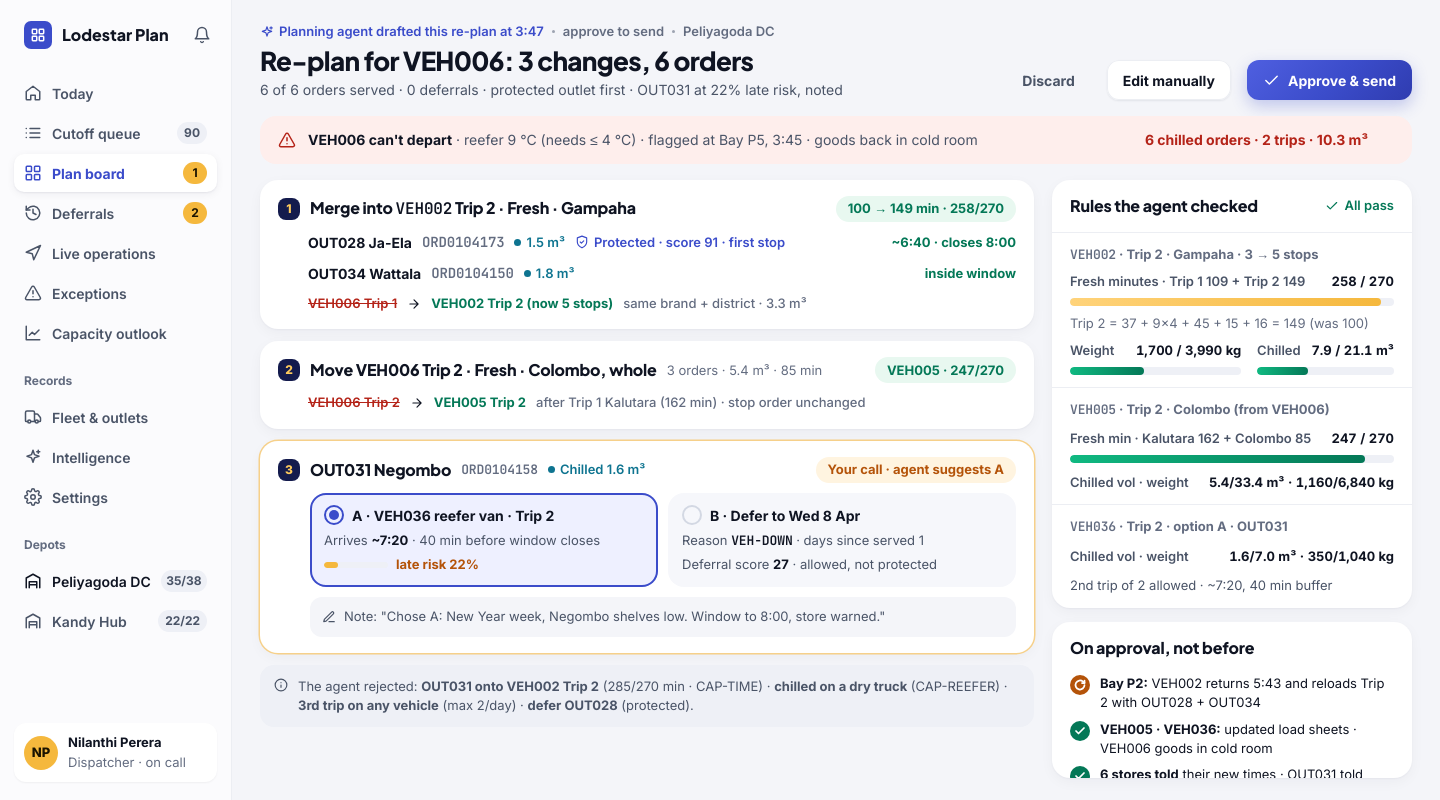
Flow 3 · Reefer down (desk part) › approve & send hands the re-plan to the loader
This screenshot has width=1440, height=800.
expect the text "Re-plan for VEH006" is shown: met, box [260,44,753,77]
expect the text "reefer 9 °C" is shown: met, box [452,131,978,148]
Click the button "Approve & send" at coordinates (1330, 80), box [1247,60,1412,100]
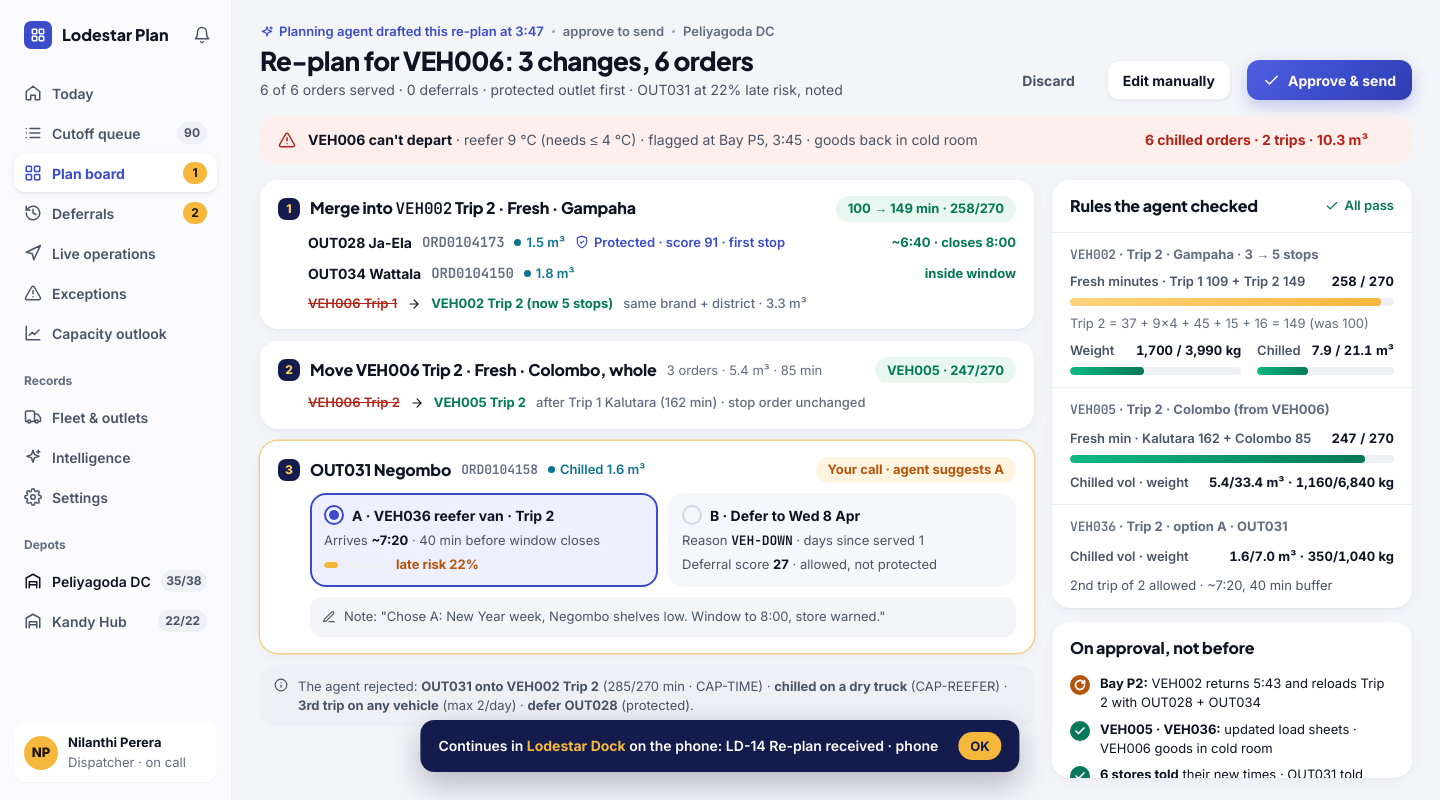
expect the message with class "web-toast" shows "Continues in": met, box [420,720,1019,772]
expect the message with class "web-toast" shows "Lodestar Dock": met, box [420,720,1019,772]
expect the message with class "web-toast" shows "LD-14": met, box [420,720,1019,772]
